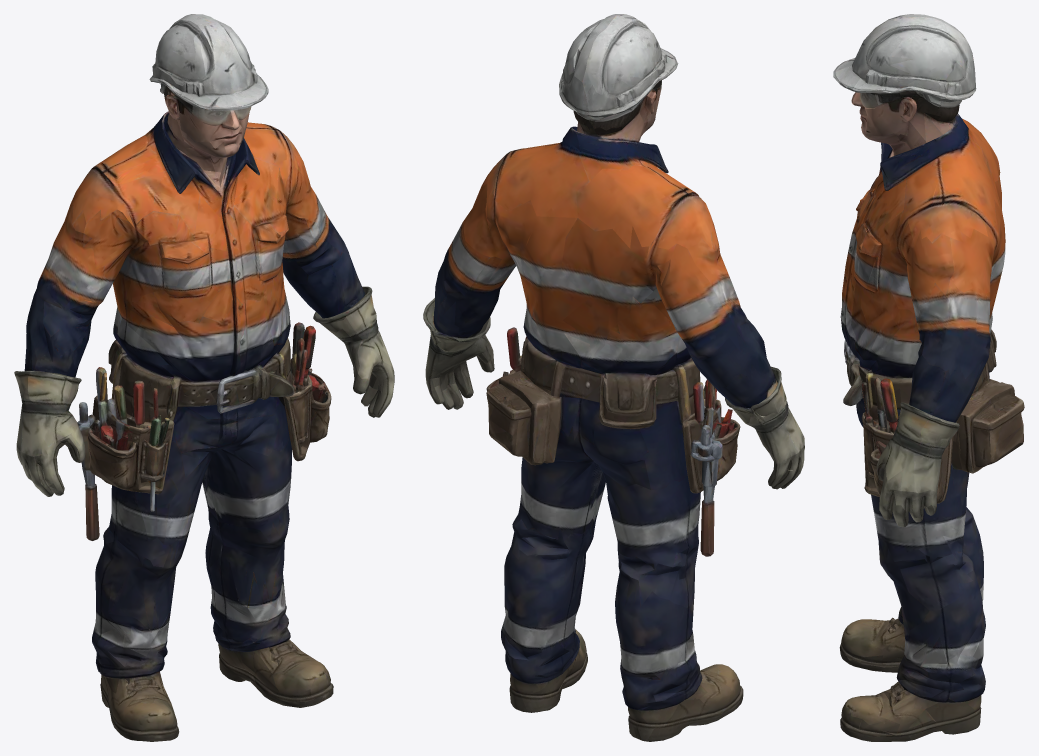
Rendered from lineworker_1.glb.
The picture shows the model from 3 angles, left to right: view 1: azimuth 30°, elevation 25°; view 2: azimuth 150°, elevation 25°; view 3: azimuth 270°, elevation 25°; orthographic projection.
Bounding box in the file's own units: 1.07 × 1.9 × 0.4842.
1 material, 1 textured.
